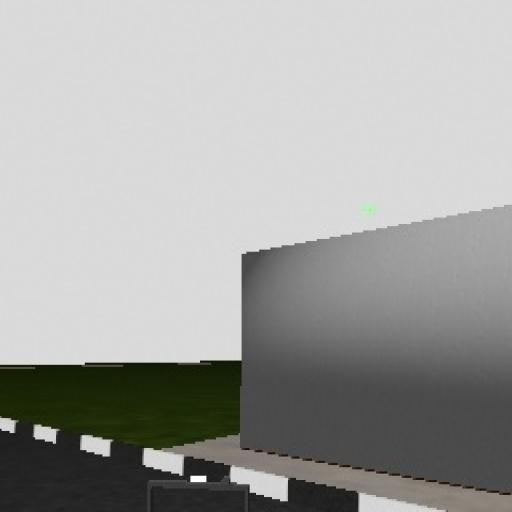huskya200: (135, 475, 257, 512)
